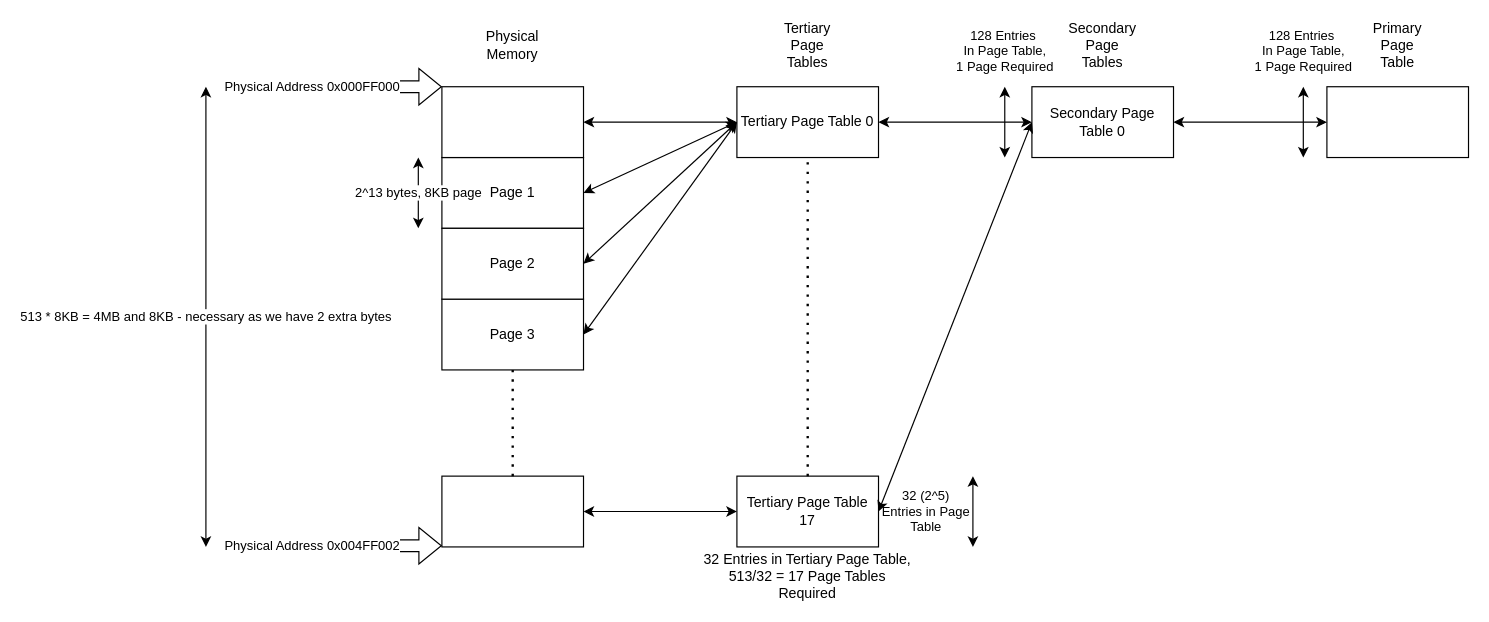
Image size: 1489x622. Some labels were removed from this diagram. Here are the shapes that lost their labels. From the top down, the centre of each, then its label:
At [512,122]: "Page 0".
At [1397,122]: "Primary Page Table 0".
At [512,511]: "Page 512".
